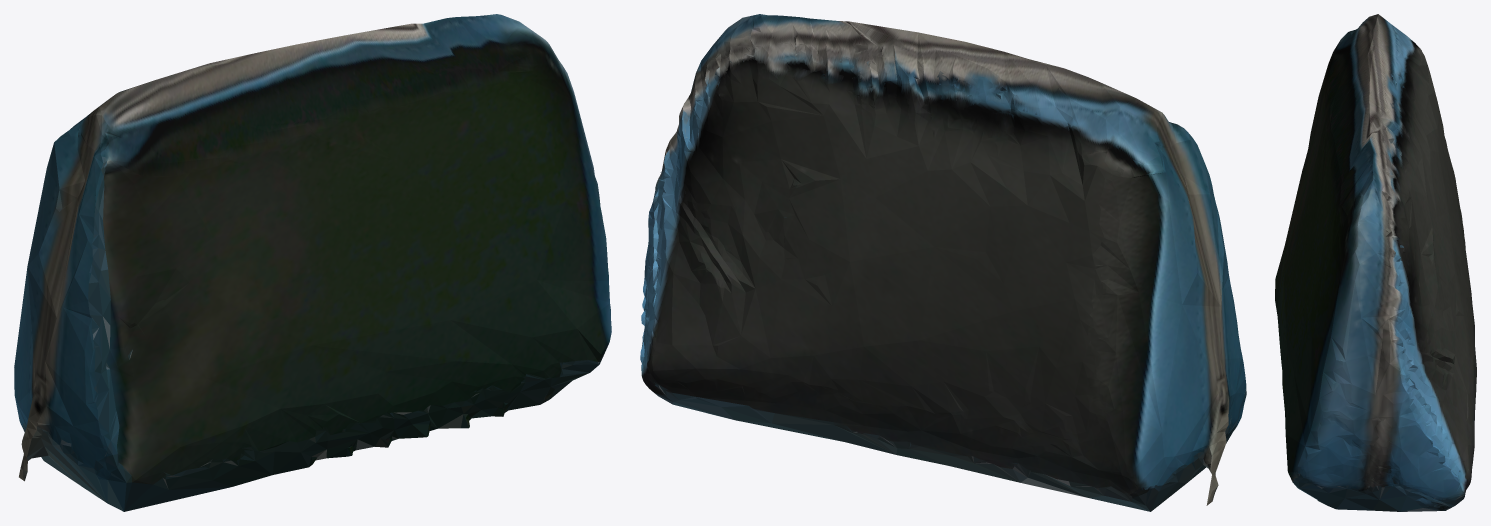
File: PencilPouch.obj
The picture shows the model from 3 angles, left to right: view 1: azimuth 30°, elevation 25°; view 2: azimuth 150°, elevation 25°; view 3: azimuth 270°, elevation 25°; orthographic projection. The views are drawn at different scales.
Bounding box in the file's own units: 104 × 69.8 × 38.55.
1 material, 1 textured.
